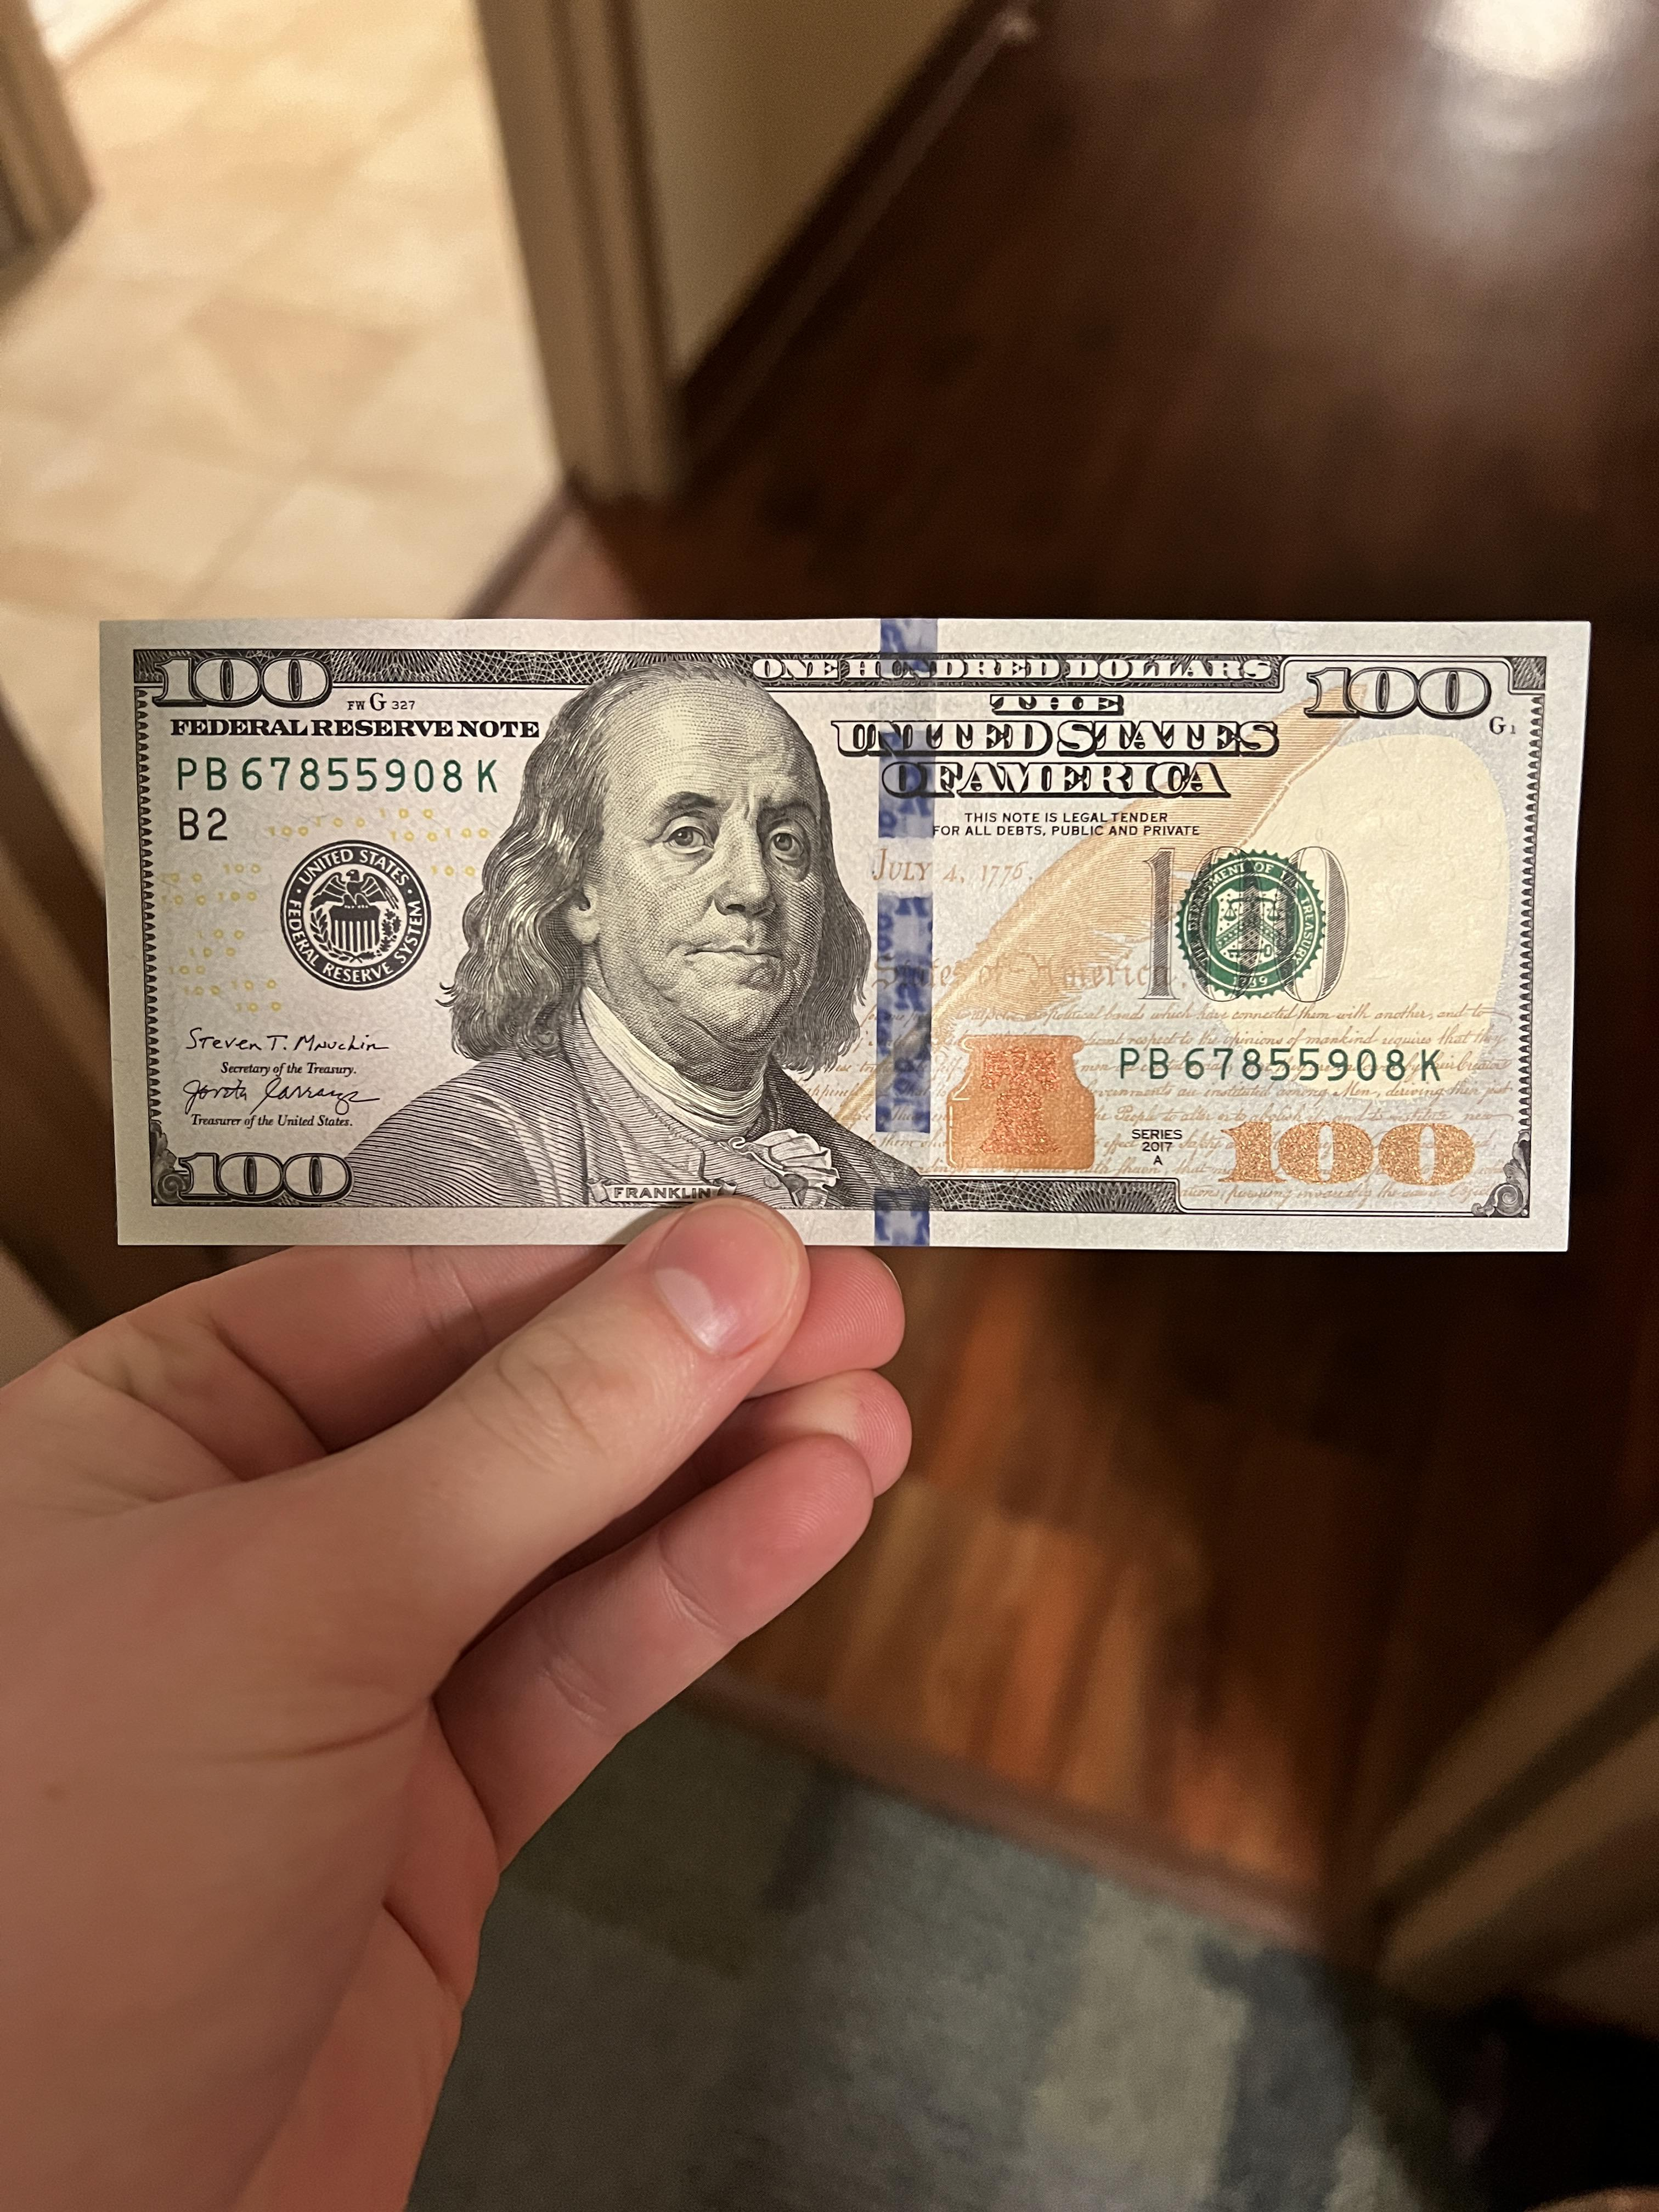HundredBill: (85, 610, 1581, 1258)
